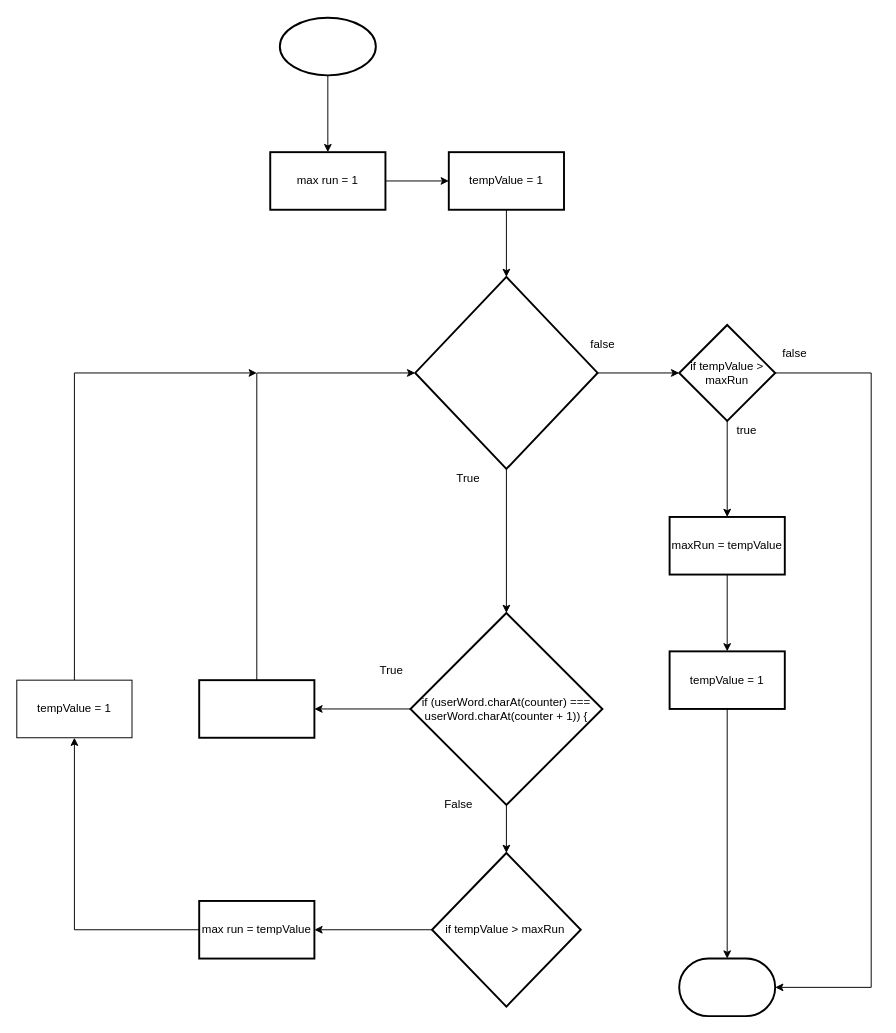
The diagram is 896 pixels wide and 1033 high, and some of its shapes have lost their labels. Each missing label, with the centre of its shape:
"End of Function" belongs at [727,987].
"for (let counter = 0; counter < userWord.length; counter++)" belongs at [506,372].
"start" belongs at [327,46].
"tempValue += 1" belongs at [256,708].
